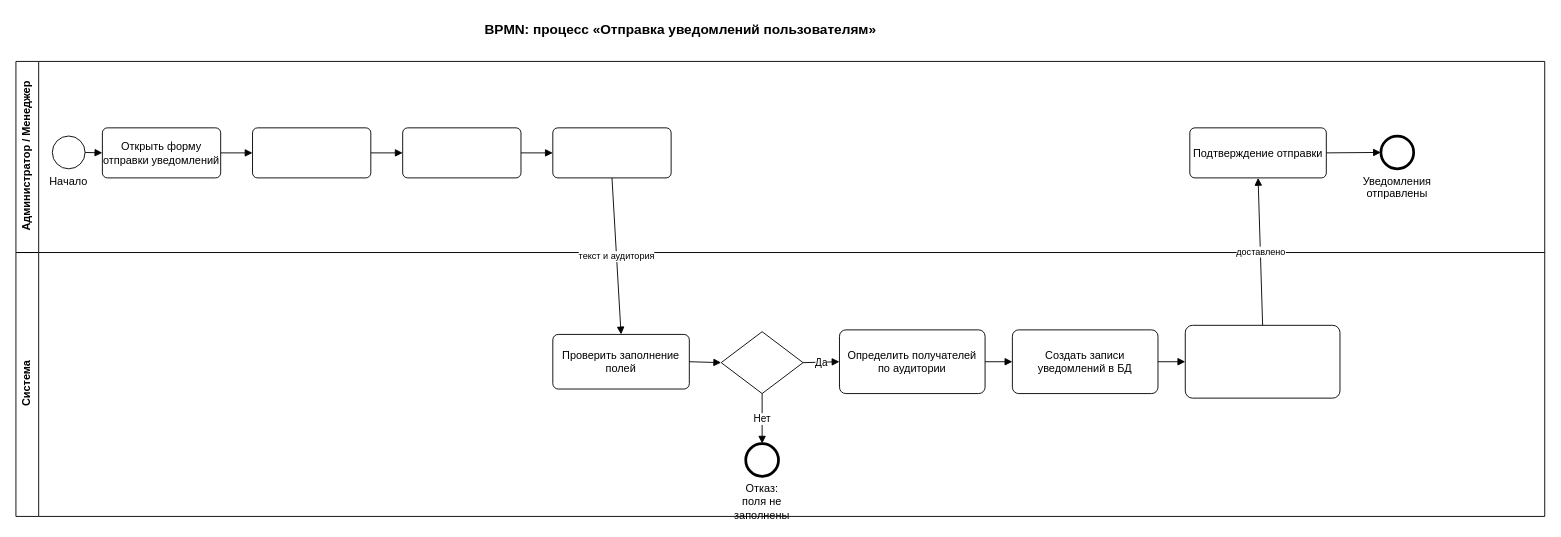
Image size: 1561x537. Some labels were removed from this diagram. The centre of each missing label's shape, as x and y in pixels:
"Ввести заголовок и текст" belongs at pixel 311 152.
"Выбрать аудиторию (все / менеджеры / клиенты)" belongs at pixel 461 152.
"Доставить уведомления в личные кабинеты" belongs at pixel 1262 361.
"Нажать «Отправить»" belongs at pixel 611 152.
"Поля заполнены?" belongs at pixel 761 362.
